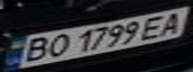1: (72, 28, 93, 54)
7: (90, 25, 112, 52)
9: (121, 18, 148, 45), (106, 21, 130, 48)
A: (154, 9, 190, 37)
B: (15, 35, 54, 64)
E: (136, 12, 172, 42)
O: (39, 31, 72, 60)
